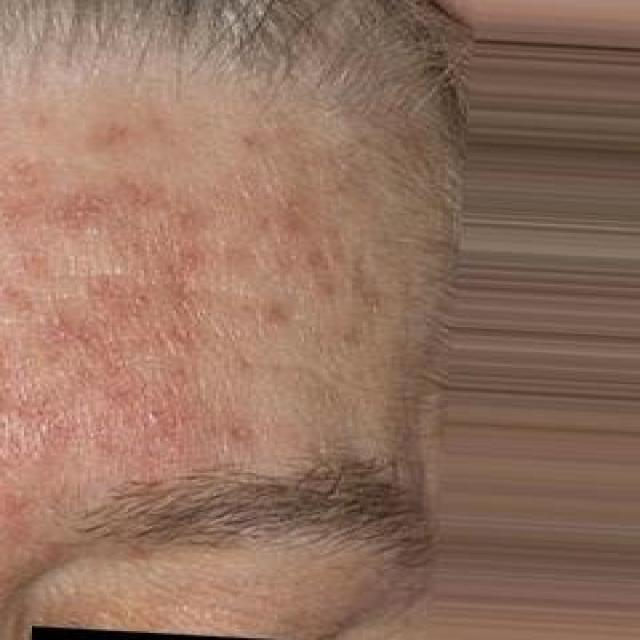Rosacea: (0, 151, 348, 463)
